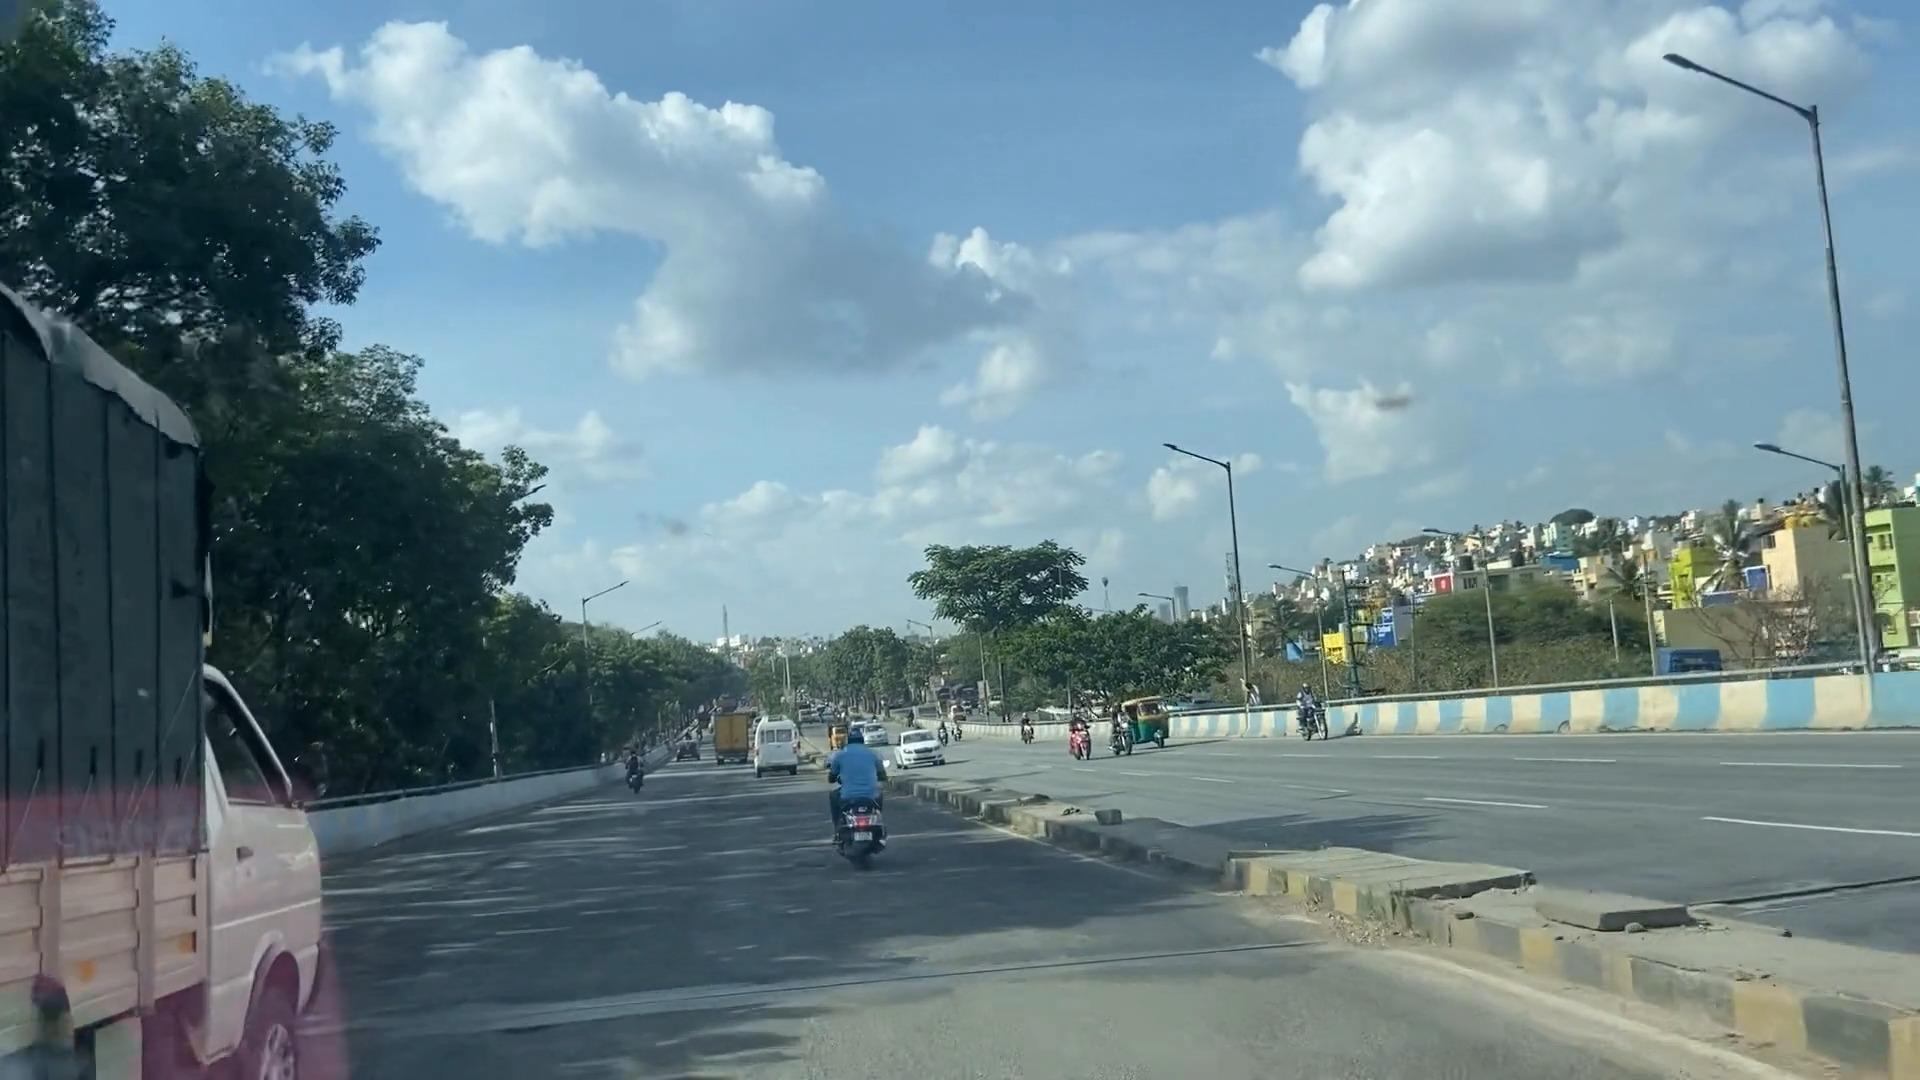HMV: (10, 322, 345, 1080)
LMV: (814, 726, 897, 890)
